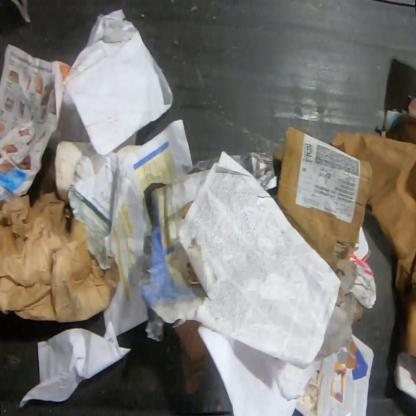cardboard: (331, 129, 416, 357), (276, 126, 373, 283), (170, 318, 208, 393), (54, 140, 90, 200)
